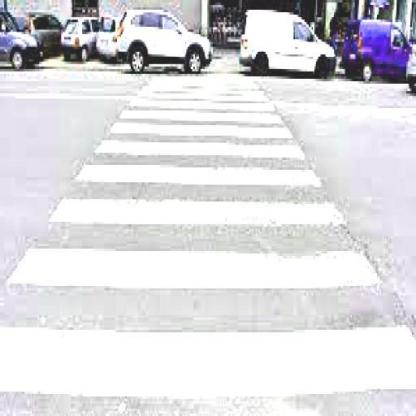crosswalk: (2, 242, 415, 406), (46, 155, 353, 227), (109, 106, 298, 140)
